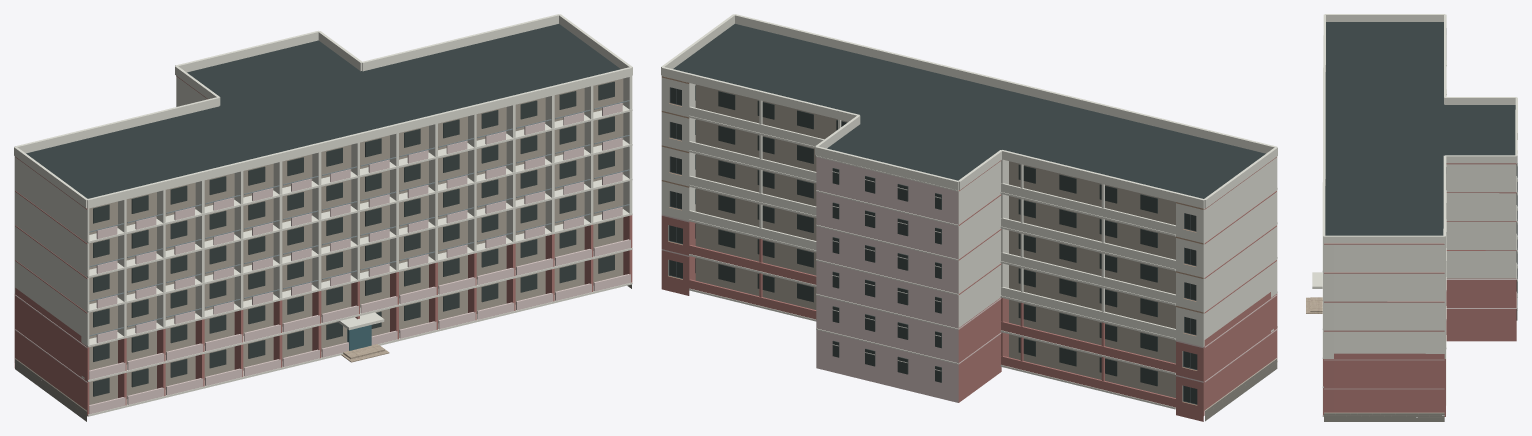
File: chunk-dorm-way-759147075.glb
3 renders of one model, left to right at view 1: azimuth 30°, elevation 25°; view 2: azimuth 150°, elevation 25°; view 3: azimuth 270°, elevation 25°, orthographic. The views are drawn at different scales.
Parts seen in each view (by area): view 1: chunk-dorm-way-759147075; view 2: chunk-dorm-way-759147075; view 3: chunk-dorm-way-759147075.
Part boxes in pixels (box(x1,y1,x2,y2)): chunk-dorm-way-759147075: box(14, 14, 632, 421); chunk-dorm-way-759147075: box(661, 14, 1277, 421); chunk-dorm-way-759147075: box(1306, 14, 1517, 421).
Size of the model in its own units: 54.48 by 21.15 by 21.9.
Materials: 12 (1 with a texture image).
